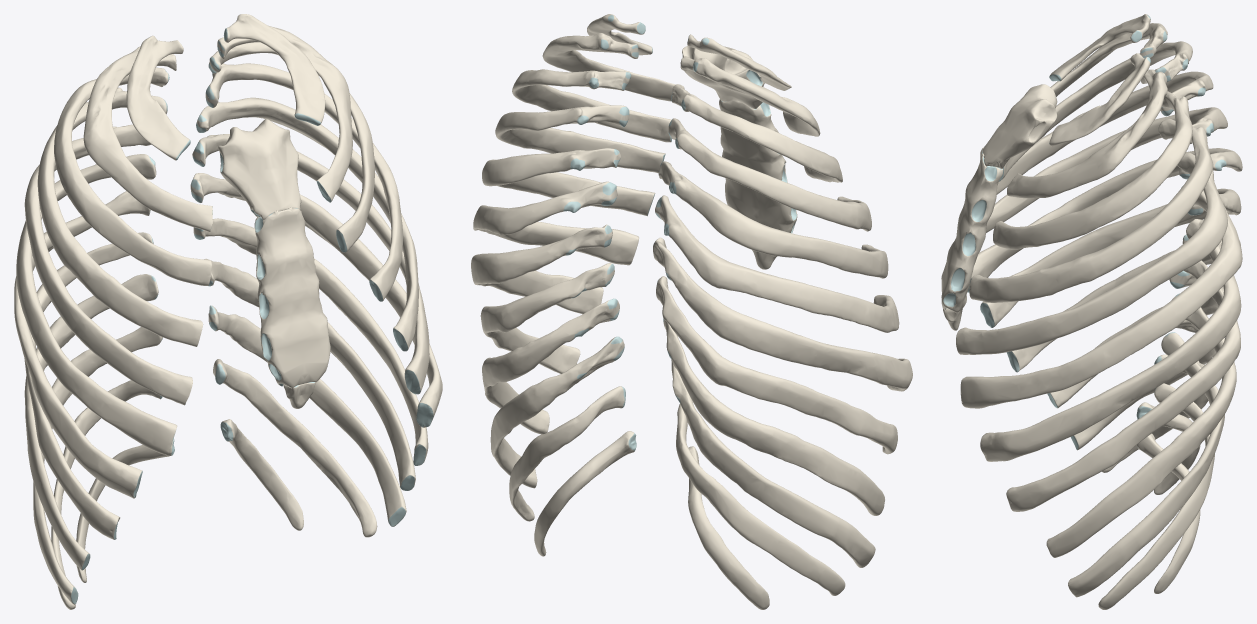
Rendered from ribcage.glb.
The picture shows the model from 3 angles, left to right: view 1: azimuth 30°, elevation 25°; view 2: azimuth 150°, elevation 25°; view 3: azimuth 270°, elevation 25°; orthographic projection. The views are drawn at different scales.
Parts seen in each view (by area): view 1: Body of sternum, Sixth rib (right), Fourth rib (right), Fifth rib (right), Third rib (right), Second rib (right), Manubrium of sternum, Seventh rib (right), Fifth rib (left), Eighth rib (left), Tenth rib (left), Seventh rib (left) (+14 smaller); view 2: Seventh rib (right), Sixth rib (right), Eighth rib (right), Ninth rib (right), Fifth rib (right), Tenth rib (right), Sixth rib (left), Fifth rib (left), Fourth rib (left), Seventh rib (left), Eleventh rib (right), Body of sternum (+14 smaller); view 3: Sixth rib (left), Fifth rib (left), Seventh rib (left), Fourth rib (left), Eighth rib (left), Ninth rib (left), Third rib (left), Tenth rib (left), Body of sternum, Second rib (left), Seventh rib (right), Manubrium of sternum (+14 smaller).
Boxes of the visible parts, <box> form: Body of sternum: <box>254,207,330,388</box>; Sixth rib (right): <box>16,154,177,455</box>; Fourth rib (right): <box>37,87,203,346</box>; Fifth rib (right): <box>24,124,192,405</box>; Third rib (right): <box>54,67,211,285</box>; Second rib (right): <box>83,46,212,231</box>; Manubrium of sternum: <box>218,119,301,219</box>; Seventh rib (right): <box>14,191,150,498</box>; Fifth rib (left): <box>196,97,418,351</box>; Eighth rib (left): <box>193,218,428,465</box>; Tenth rib (left): <box>208,305,406,526</box>; Seventh rib (left): <box>190,173,442,427</box>; Seventh rib (right): <box>653,237,912,391</box>; Sixth rib (right): <box>655,195,899,332</box>; Eighth rib (right): <box>656,276,897,454</box>; Ninth rib (right): <box>663,318,884,515</box>; Fifth rib (right): <box>658,161,888,278</box>; Tenth rib (right): <box>671,359,875,567</box>; Sixth rib (left): <box>473,181,638,265</box>; Fifth rib (left): <box>482,148,655,216</box>; Fourth rib (left): <box>495,105,665,173</box>; Seventh rib (left): <box>471,224,612,314</box>; Eleventh rib (right): <box>676,404,845,595</box>; Body of sternum: <box>719,99,797,233</box>; Sixth rib (left): <box>960,186,1242,408</box>; Fifth rib (left): <box>956,152,1227,354</box>; Seventh rib (left): <box>980,219,1241,461</box>; Fourth rib (left): <box>969,119,1213,302</box>; Eighth rib (left): <box>1006,260,1240,511</box>; Ninth rib (left): <box>1046,293,1236,557</box>; Third rib (left): <box>993,91,1192,249</box>; Tenth rib (left): <box>1068,332,1224,597</box>; Body of sternum: <box>941,147,1003,312</box>; Second rib (left): <box>1007,69,1167,198</box>; Seventh rib (right): <box>980,188,1241,327</box>; Manubrium of sternum: <box>982,84,1057,168</box>.
Bounding box in the file's own units: 0.2833 × 0.3901 × 0.2095.
